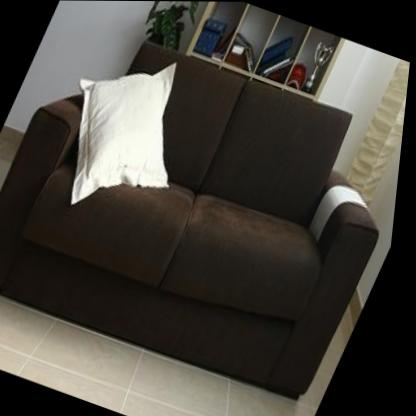Sofa: (0, 12, 415, 408)
